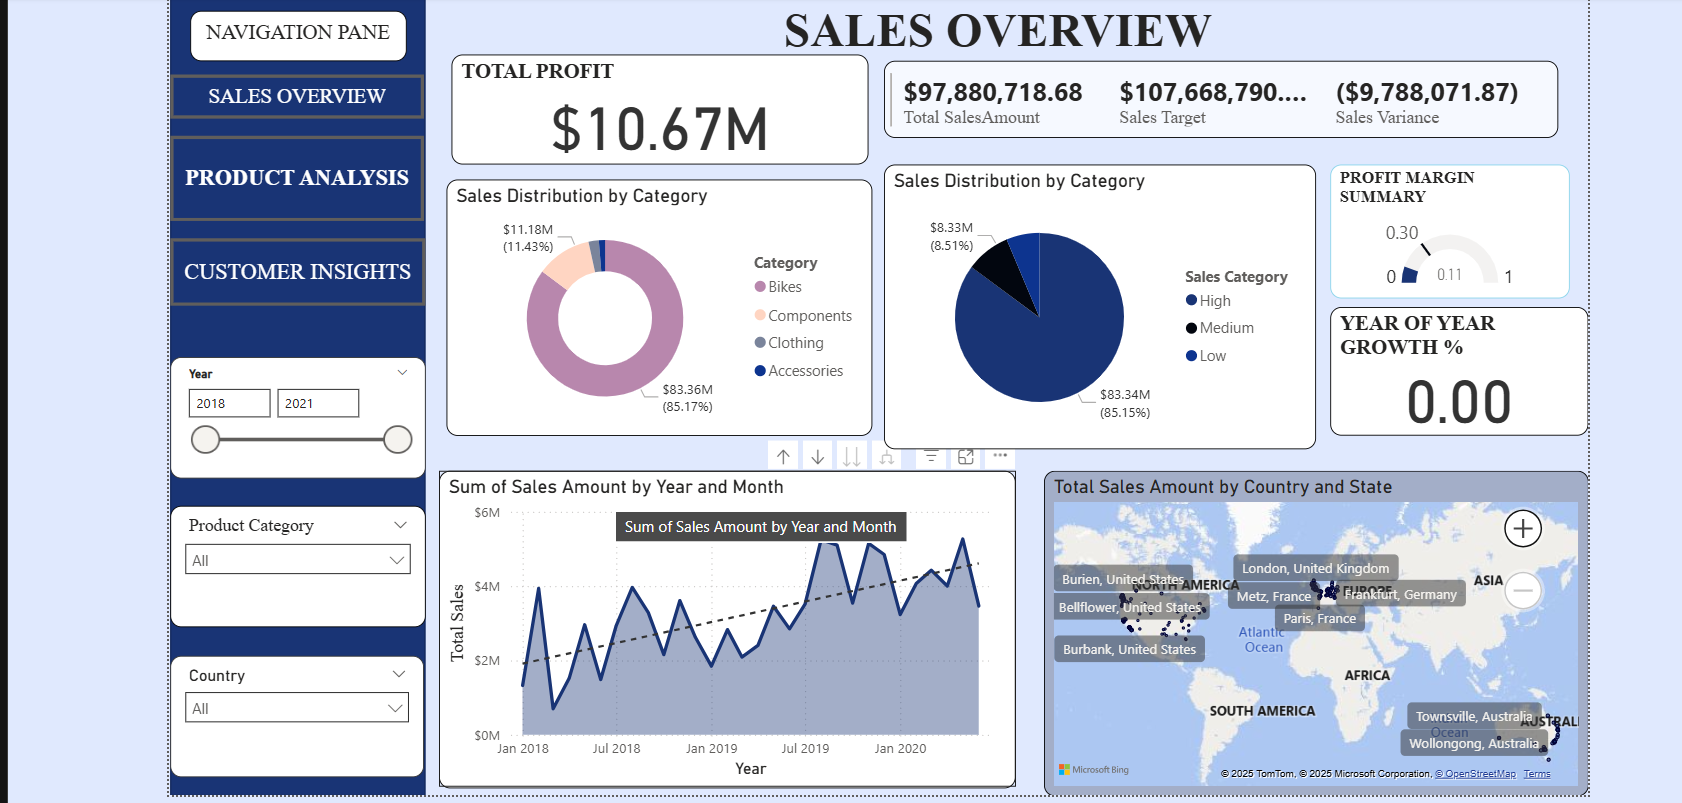

This screenshot's page, from the dashboard's own definition file:
{"tool":"powerbi","page":{"name":"Sales Overview","canvas":[1280,720],"ordinal":1},"visuals":[{"type":"slicer","fields":{"Values":["Date.Date.Variation.Date Hierarchy.Year"]},"box":[0.9,324.8,230.5,109.8],"z":0,"group":"g2"},{"type":"areaChart","fields":{"Category":["Date.Date.Variation.Date Hierarchy.Year","Date.Date.Variation.Date Hierarchy.Month"],"Y":["Sum(Sales.Sales Amount)"]},"box":[243.8,426.7,520,286.1],"z":0},{"type":"map","title":"Total Sales Amount by Country and State","fields":{"Category":["Geography.Country-Region","Geography.City"],"Size":["Sum(Sales.Sales Amount)"]},"box":[788.7,426.7,491.4,293.6],"z":1000},{"type":"slicer","title":"Catrg","fields":{"Values":["Product.Category"]},"box":[0.9,459.3,230.5,109.8],"z":1000,"group":"g2"},{"type":"multiRowCard","fields":{"Values":["Sales.Total SalesAmount","Sales.Sales Target","Sales.Sales Variance"]},"box":[645.1,57.9,607.7,69.8],"z":2000},{"type":"slicer","fields":{"Values":["Geography.Country-Region"]},"box":[0.9,593.8,229.2,109.8],"z":2000,"group":"g2"},{"type":"shape","box":[1.4,0,230.1,720.3],"z":3000,"group":"g1"},{"type":"actionButton","box":[0.9,124.7,228.9,77.1],"z":3000,"group":"g2"},{"type":"pieChart","title":"Sales Distribution by Category","fields":{"Category":["Sales.Sales Category"],"Y":["Sum(Sales.Sales Amount)"]},"box":[645.1,151.5,389.8,257],"z":3000},{"type":"card","title":"TOTAL PROFIT","fields":{"Values":["Sum(Sales.Profit)"]},"box":[255,52.2,375.7,99.5],"z":4000},{"type":"actionButton","box":[0.9,218,230.1,61],"z":4000,"group":"g2"},{"type":"group","id":"g1","title":"Group 2","box":[0.9,0,230.6,720.3],"z":5000},{"type":"actionButton","box":[0.9,70,228.9,39.8],"z":5000,"group":"g2"},{"type":"textbox","box":[461.5,0,573.5,69.7],"z":6000},{"type":"group","id":"g2","title":"Group 1","box":[0.9,70,230.5,634],"z":6008,"group":"g1"},{"type":"textbox","box":[19.2,12.3,194.9,45.3],"z":7000},{"type":"gauge","title":"PROFIT MARGIN SUMMARY","fields":{"Y":["Customer.Profit Margin %"],"TargetValue":["Customer.Target Profit Margin"],"MaxValue":["Customer.Max Margin"],"MinValue":["Customer.Min Margin"]},"box":[1046.8,151.5,216.2,120.9],"z":8000},{"type":"donutChart","title":"Sales Distribution by Category","fields":{"Category":["Product.Category"],"Y":["Sum(Sales.Sales Amount)"]},"box":[250,164.2,384.4,231.4],"z":9001},{"type":"card","title":"YEAR OF YEAR GROWTH %","fields":{"Values":["Sales.YoY Growth %"]},"box":[1047.4,279.9,232.6,115.7],"z":9002}]}

Visuals, with their boxes on the page's 1280x720 design canvas (x1, y1, x2, y2). These are canvas units, not pixel positions in the 1682x803 screenshot, which may show the page scaled, cropped or inside an application window:
slicer - Date.Date.Variation.Date Hierarchy.Year: BBox(1, 325, 231, 435)
areaChart - Date.Date.Variation.Date Hierarchy.Year x Date.Date.Variation.Date Hierarchy.Month: BBox(244, 427, 764, 713)
"Total Sales Amount by Country and State" map: BBox(789, 427, 1280, 720)
"Catrg" slicer: BBox(1, 459, 231, 569)
multiRowCard - Sales.Total SalesAmount x Sales.Sales Target: BBox(645, 58, 1253, 128)
slicer - Geography.Country-Region: BBox(1, 594, 230, 704)
shape: BBox(1, 0, 232, 720)
actionButton: BBox(1, 125, 230, 202)
"Sales Distribution by Category" pieChart: BBox(645, 152, 1035, 408)
"TOTAL PROFIT" card: BBox(255, 52, 631, 152)
actionButton: BBox(1, 218, 231, 279)
"Group 2" group: BBox(1, 0, 232, 720)
actionButton: BBox(1, 70, 230, 110)
textbox: BBox(462, 0, 1035, 70)
"Group 1" group: BBox(1, 70, 231, 704)
textbox: BBox(19, 12, 214, 58)
"PROFIT MARGIN SUMMARY" gauge: BBox(1047, 152, 1263, 272)
"Sales Distribution by Category" donutChart: BBox(250, 164, 634, 396)
"YEAR OF YEAR GROWTH %" card: BBox(1047, 280, 1280, 396)
